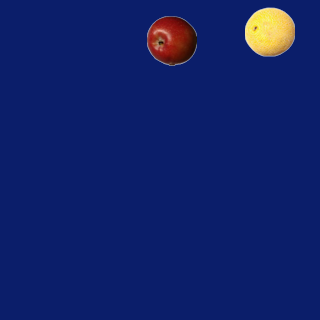Apple Braeburn: (146, 15, 196, 65)
Cantaloupe 1: (244, 6, 294, 56)
